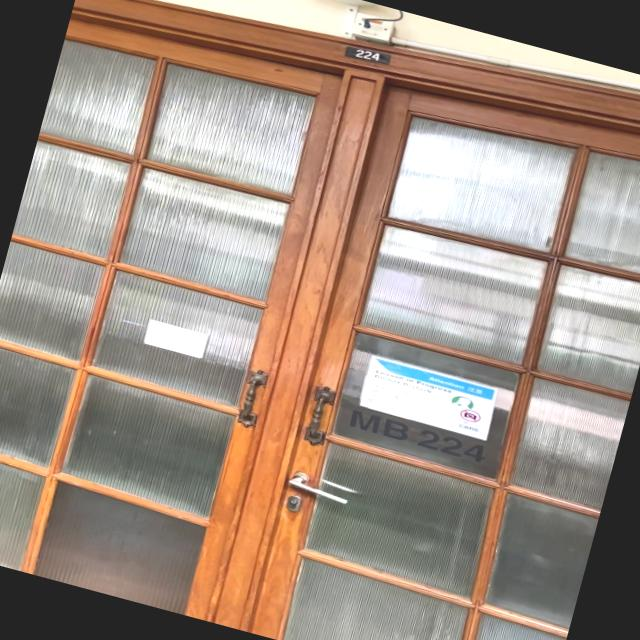room224: (342, 41, 394, 70)
room224Window: (340, 405, 496, 470)
